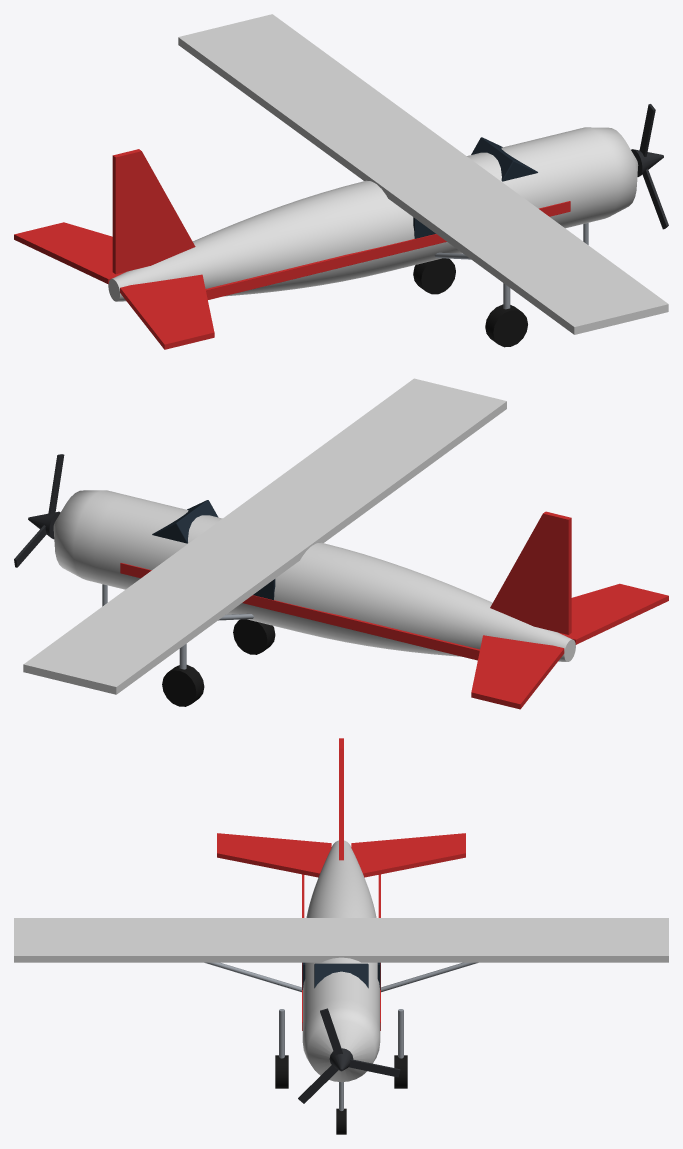
The model's file is a-realistic-light-propeller-plane-91403-realistic.glb.
3 views of the same model, one above another, from view 1: azimuth 30°, elevation 25°; view 2: azimuth 150°, elevation 25°; view 3: azimuth 270°, elevation 25° (orthographic). The views are drawn at different scales.
Parts seen in each view (by area): view 1: plane; view 2: plane; view 3: plane.
Part boxes in pixels (box(x1,y1,x2,y2)): plane: box(14, 14, 668, 349); plane: box(14, 378, 668, 709); plane: box(14, 738, 668, 1134).
Size of the model in its own units: 9.2 by 3.8 by 11.
